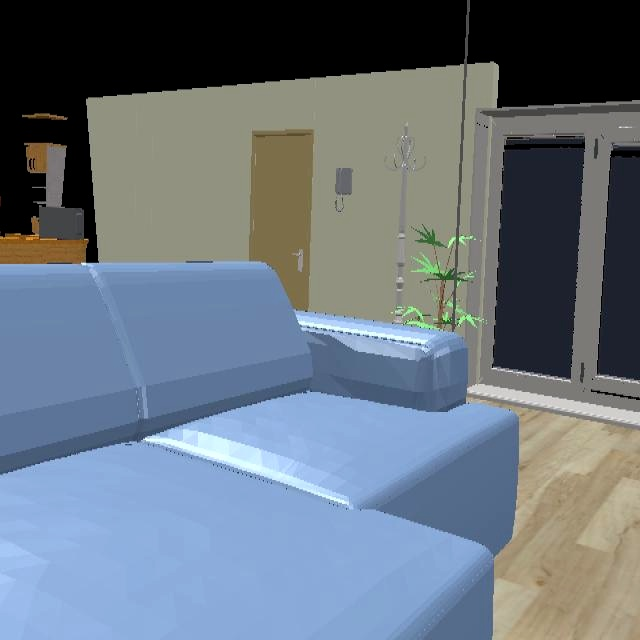cabinet: (24, 143, 67, 207)
sofa: (0, 261, 520, 640)
table: (0, 236, 94, 265)
